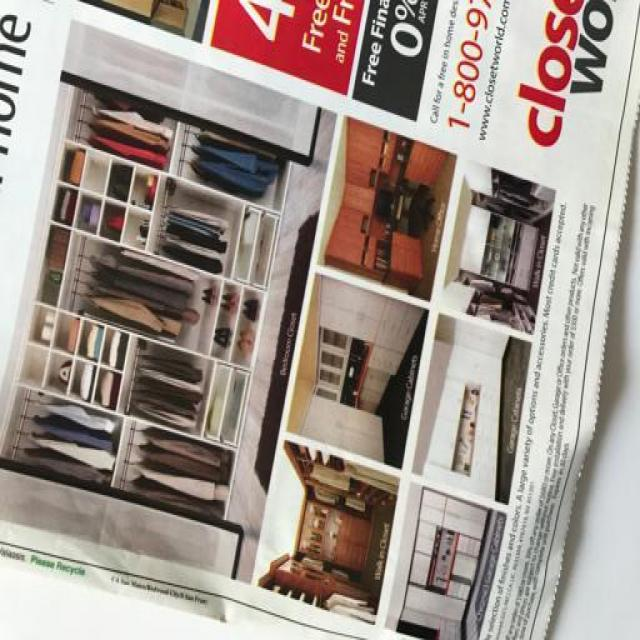paper: (7, 4, 640, 640)
